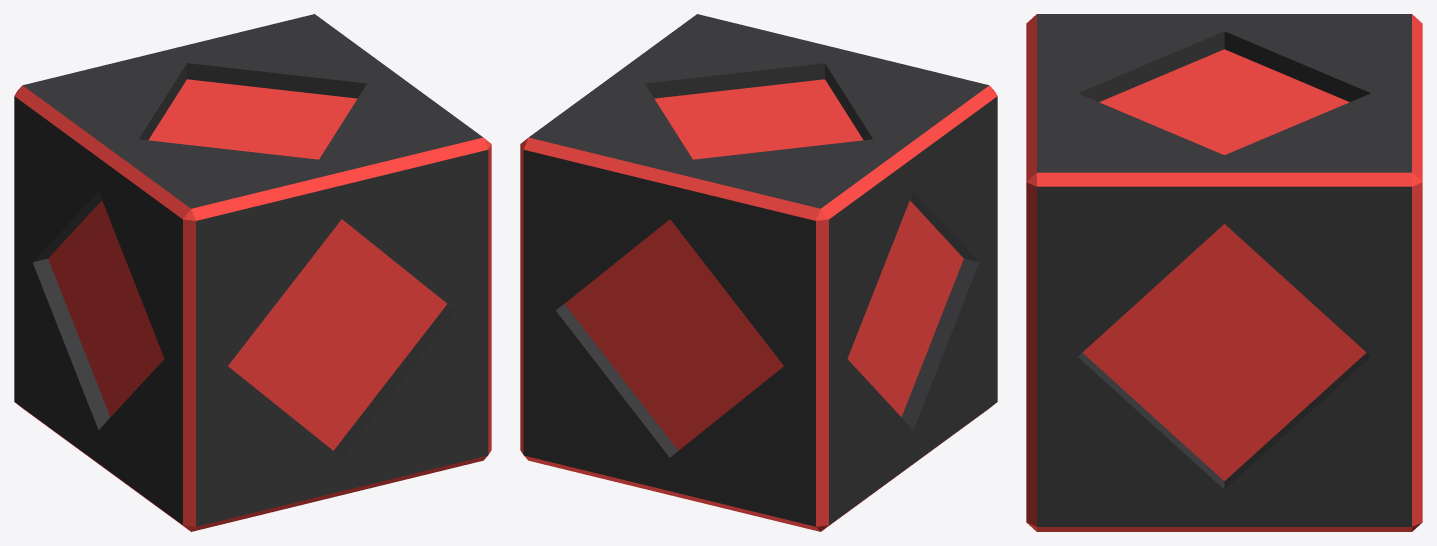
File: Move_Block.obj
3 renders of one model, left to right at view 1: azimuth 30°, elevation 25°; view 2: azimuth 150°, elevation 25°; view 3: azimuth 270°, elevation 25°, orthographic. The views are drawn at different scales.
Visible parts, largest first — view 1: Cube; view 2: Cube; view 3: Cube.
Boxes of the visible parts, x1,y1,x2,y2 form: Cube: (14, 14, 491, 531); Cube: (520, 14, 997, 531); Cube: (1026, 14, 1422, 531).
Bounding box in the file's own units: 2 × 2 × 2.
Materials: 1 (1 with a texture image).
